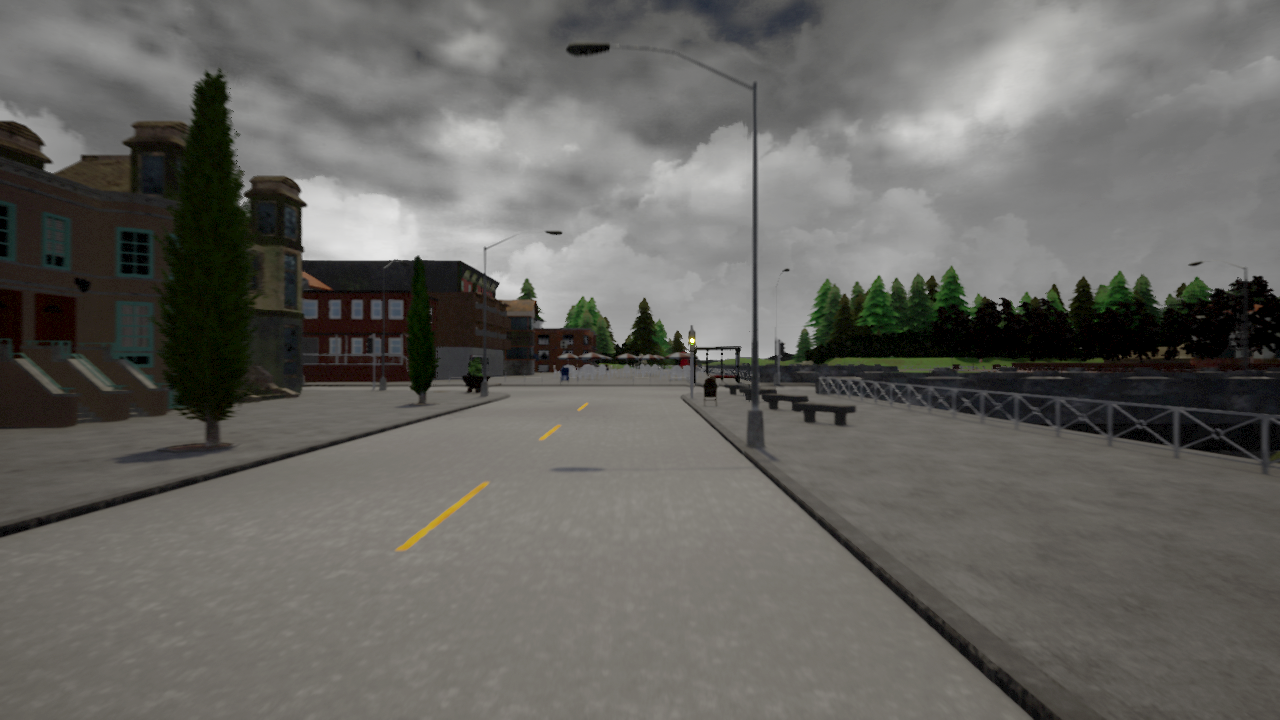yellow: (687, 329, 696, 352)
